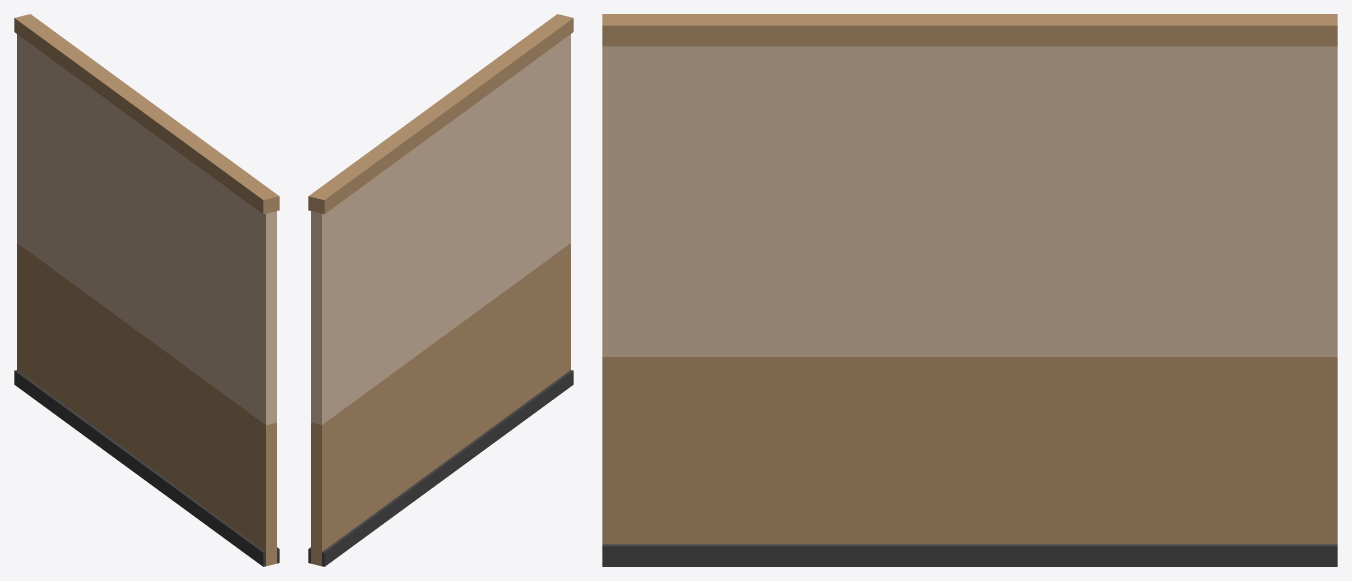
Rendered from wall_02_L.dae.
The picture shows the model from 3 angles, left to right: view 1: azimuth 30°, elevation 25°; view 2: azimuth 150°, elevation 25°; view 3: azimuth 270°, elevation 25°; orthographic projection. The views are drawn at different scales.
Parts seen in each view (by area): view 1: Untitled; view 2: Untitled; view 3: Untitled.
Part boxes in pixels (x1=…): Untitled: x1=14, y1=14, x2=279, y2=566; Untitled: x1=308, y1=14, x2=573, y2=566; Untitled: x1=602, y1=14, x2=1337, y2=566.
Bounding box in the file's own units: 0.18 × 4.8 × 3.9.
Materials: 1 (1 with a texture image).
